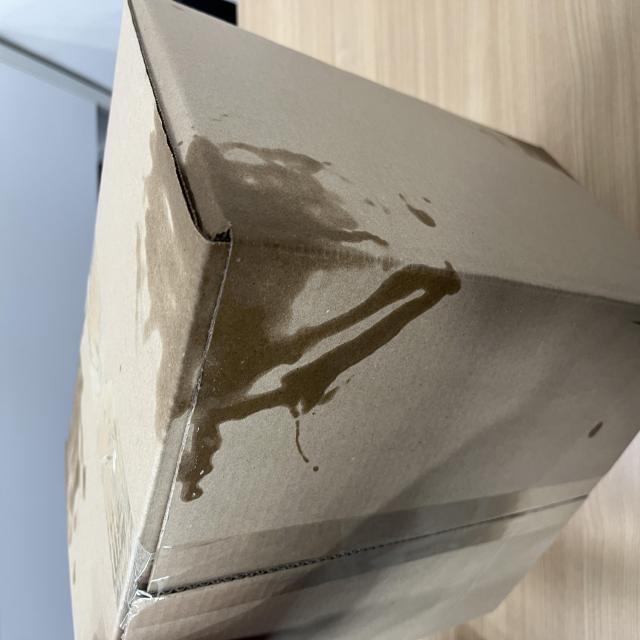wet: (134, 180, 390, 622)
